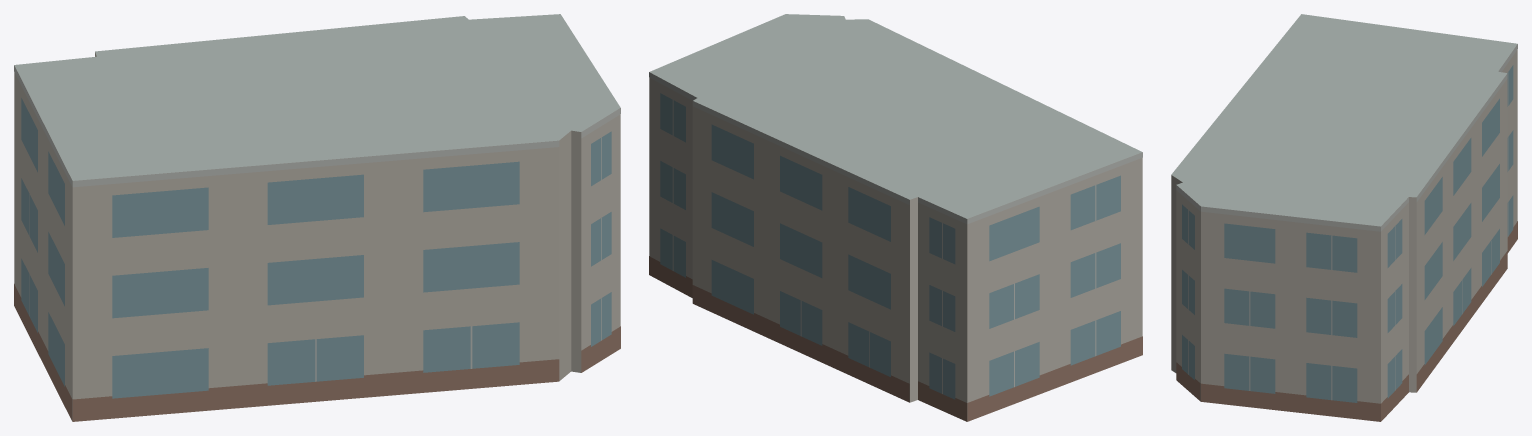
Rendered from survey-upis-32528120.glb.
3 views of the same model, side by side, from view 1: azimuth 30°, elevation 25°; view 2: azimuth 150°, elevation 25°; view 3: azimuth 270°, elevation 25° (orthographic). The views are drawn at different scales.
Visible parts, largest first — view 1: survey-upis-32528120.tmp; view 2: survey-upis-32528120.tmp; view 3: survey-upis-32528120.tmp.
Boxes of the visible parts, x1,y1,x2,y2 form: survey-upis-32528120.tmp: (14, 14, 620, 421); survey-upis-32528120.tmp: (649, 14, 1142, 421); survey-upis-32528120.tmp: (1171, 14, 1517, 421).
Bounding box in the file's own units: 21.36 × 9.15 × 14.73.
